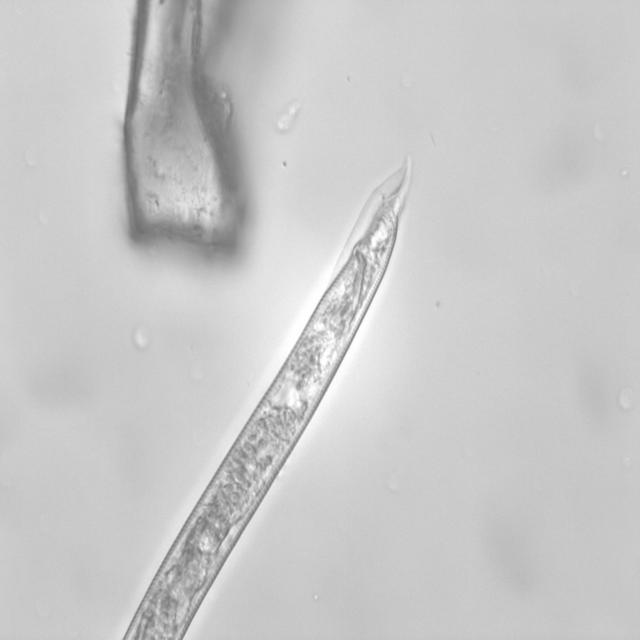Pratylenchus: (107, 139, 422, 640)
